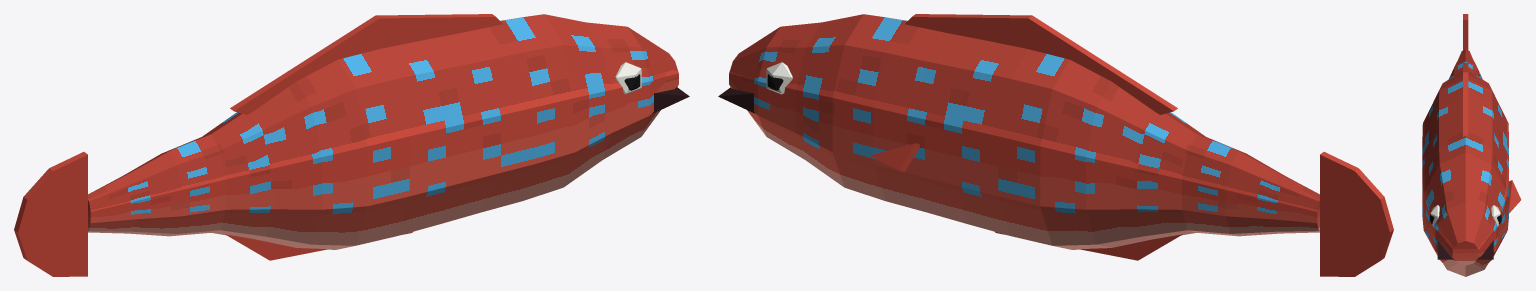
Rendered from coral_trout.glb.
3 renders of one model, left to right at view 1: azimuth 30°, elevation 25°; view 2: azimuth 150°, elevation 25°; view 3: azimuth 270°, elevation 25°, orthographic. The views are drawn at different scales.
Visible parts, largest first — view 1: fish_coral_trout; view 2: fish_coral_trout; view 3: fish_coral_trout.
Boxes of the visible parts, <box> form: fish_coral_trout: <box>14,14,689,276</box>; fish_coral_trout: <box>718,14,1393,276</box>; fish_coral_trout: <box>1422,14,1521,276</box>.
Bounding box in the file's own units: 1.12 × 0.3658 × 0.2178.
5 materials, 1 textured.
